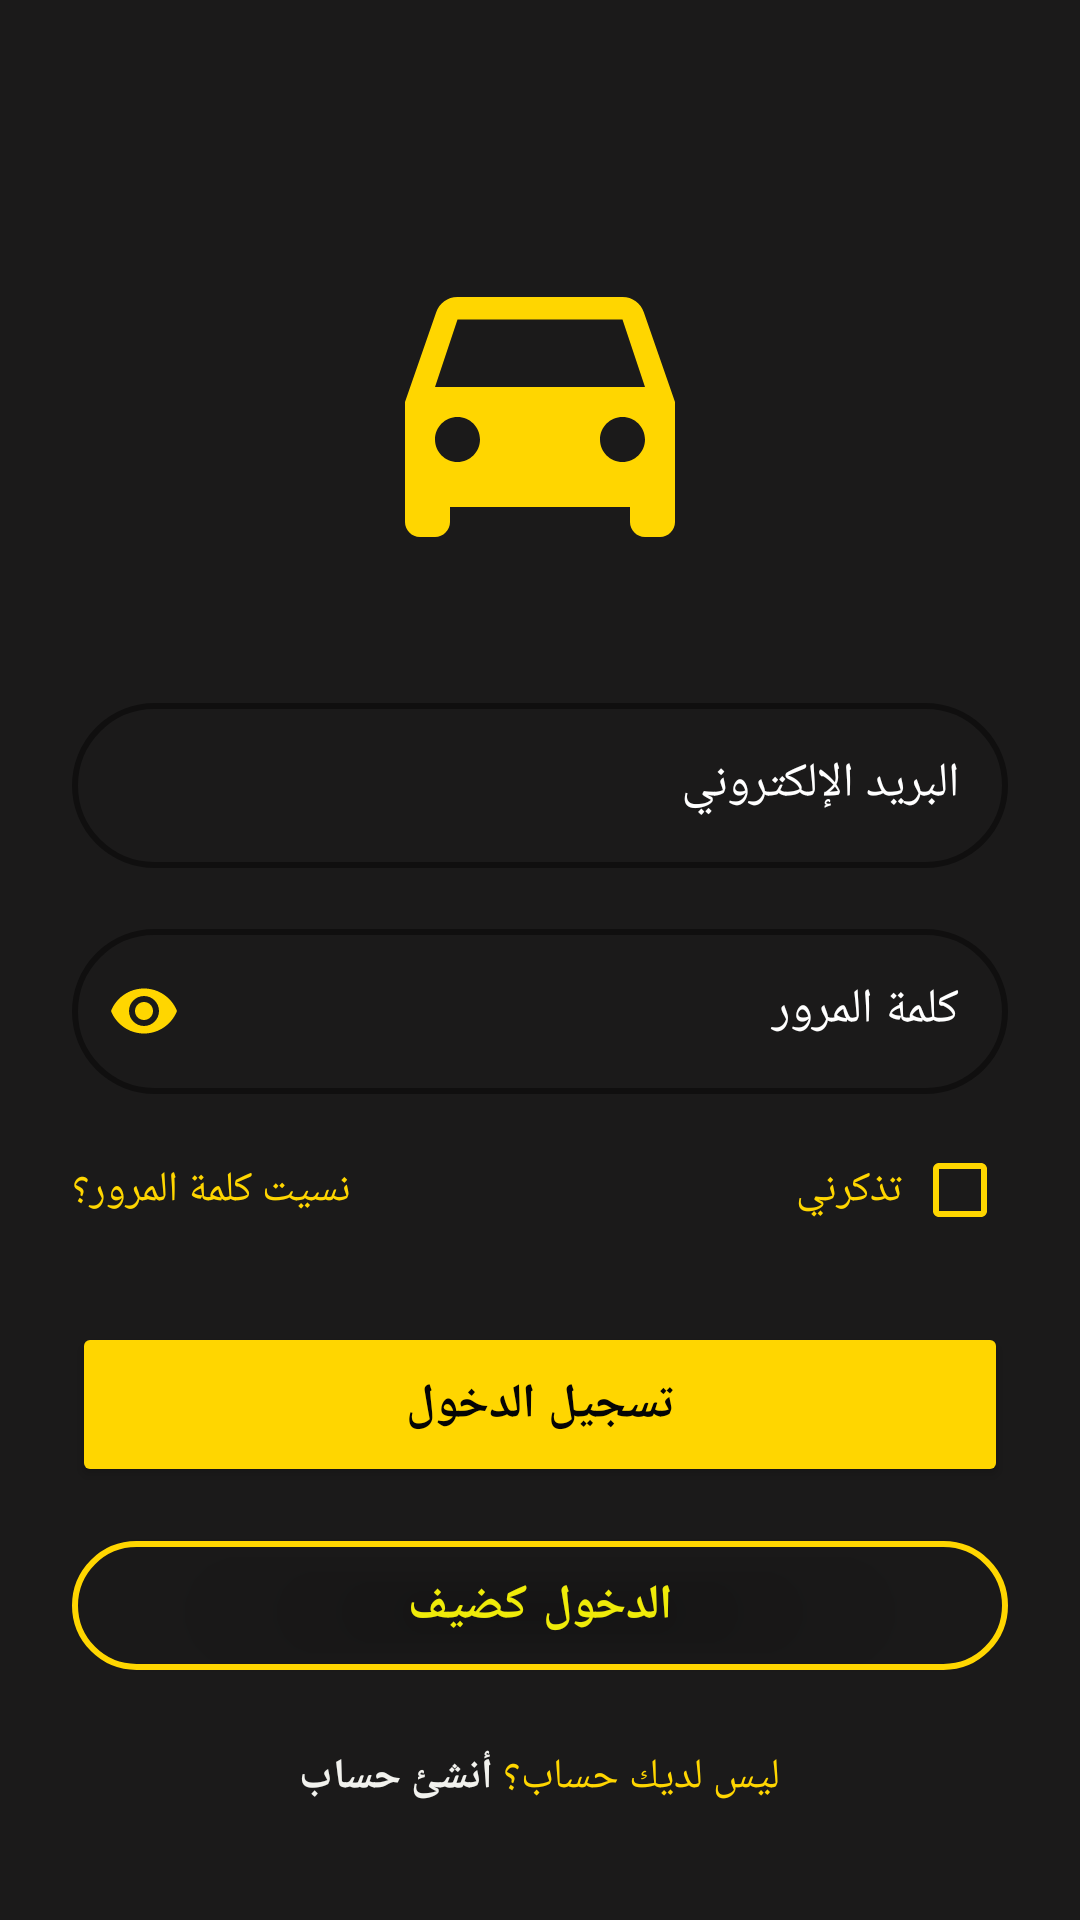

Where icons sit on this 1080w x 1920h app screen, as (x1, y1, x2, y2):
ride: (405, 297, 675, 537)
